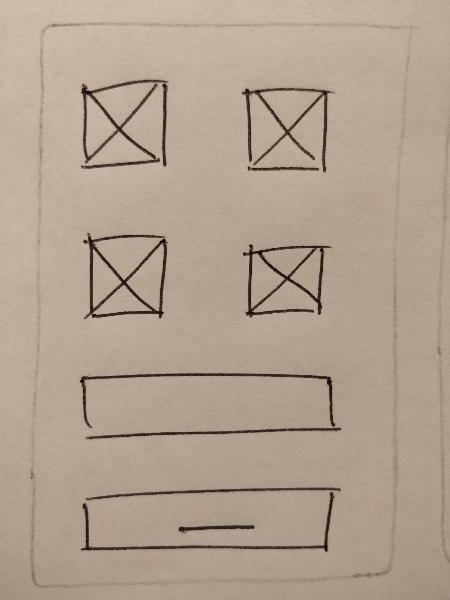button: (69, 484, 345, 560)
image: (72, 67, 177, 181), (230, 74, 337, 180), (74, 224, 176, 328), (235, 232, 335, 326)
text_input: (72, 367, 345, 444)
